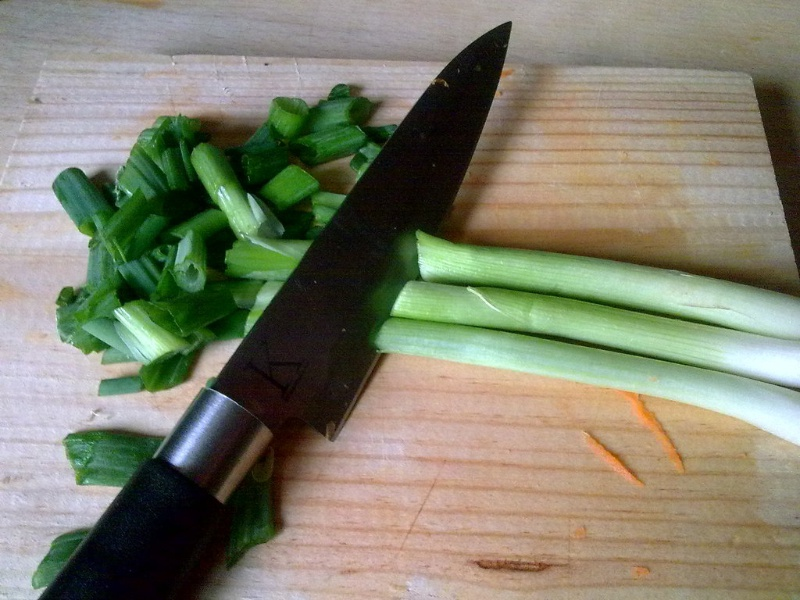axe: (60, 156, 418, 343)
